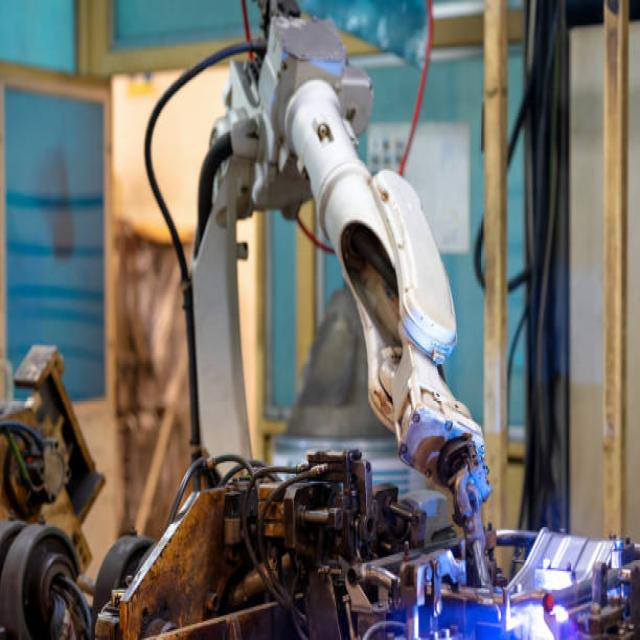Robotic-arm: (159, 10, 474, 492)
